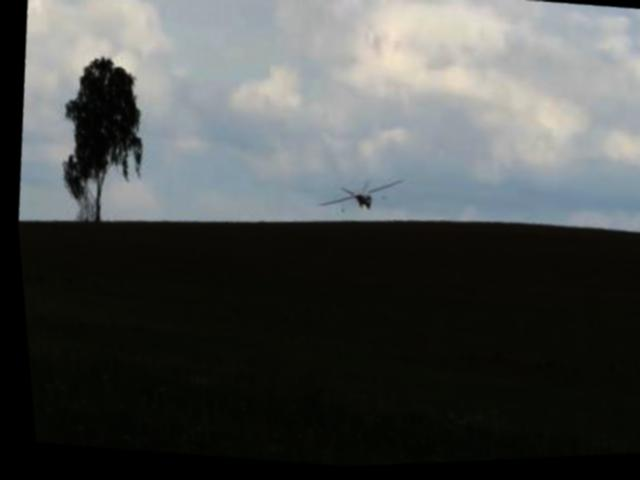uav: (312, 171, 403, 221)
